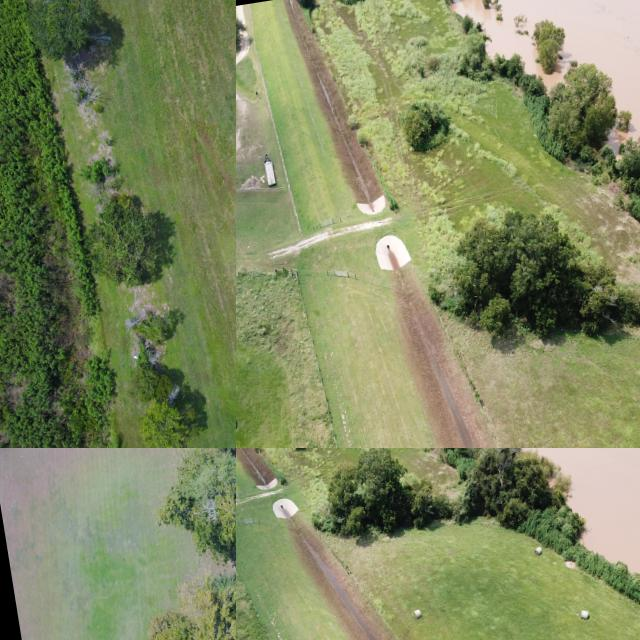fire: (452, 0, 640, 137), (532, 448, 640, 572)
